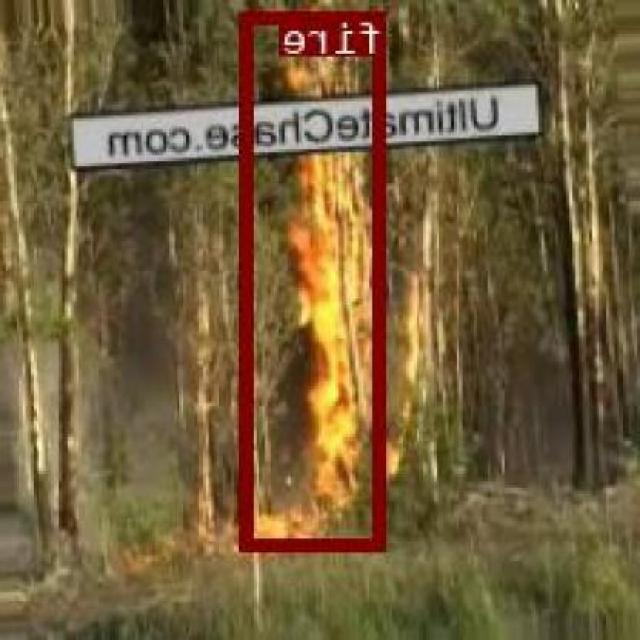Fire: (242, 10, 388, 550)
